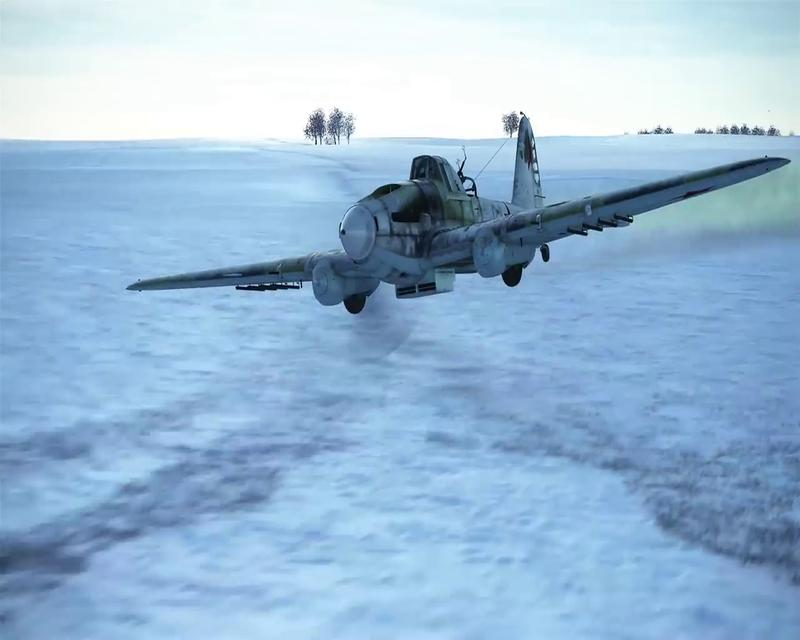UAV: (124, 109, 791, 315)
